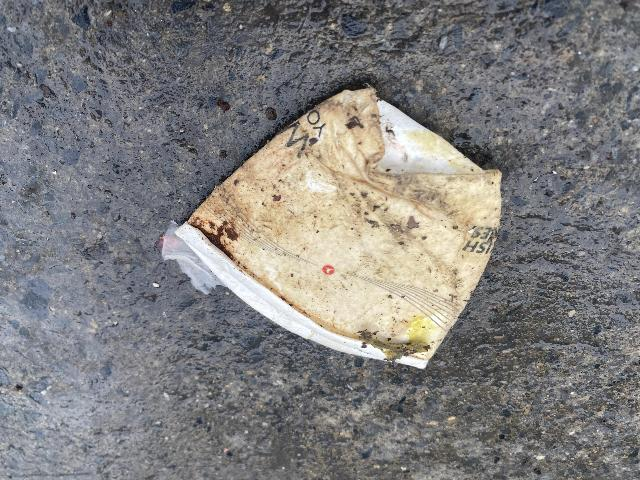Kagit: (159, 84, 527, 376)
